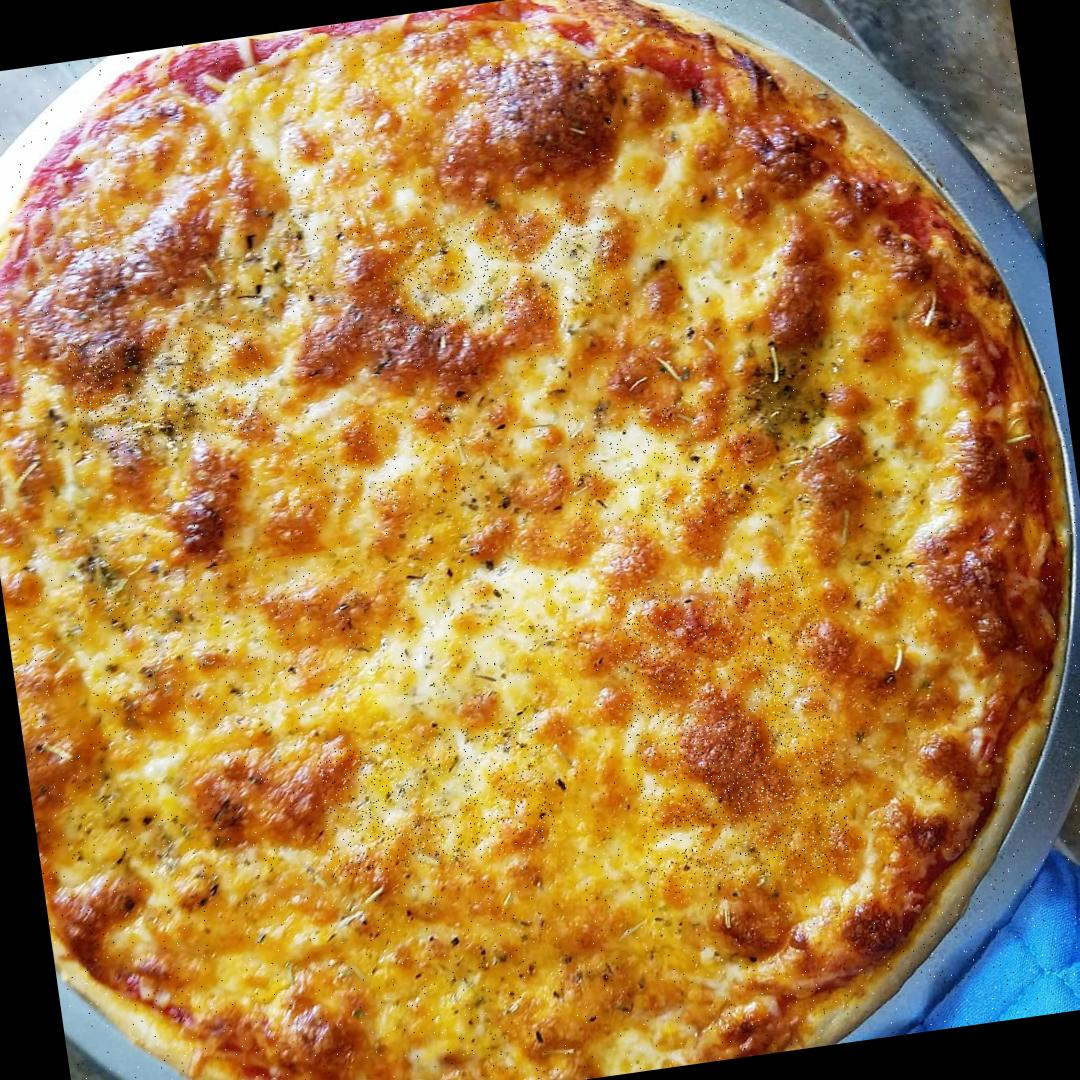Cheese: (607, 563, 855, 897), (82, 547, 376, 742), (315, 713, 558, 878), (380, 199, 630, 342), (564, 386, 769, 548), (275, 117, 400, 366), (374, 562, 587, 700), (67, 318, 275, 458), (290, 399, 475, 520)
Pizza: (0, 0, 1080, 1080)
